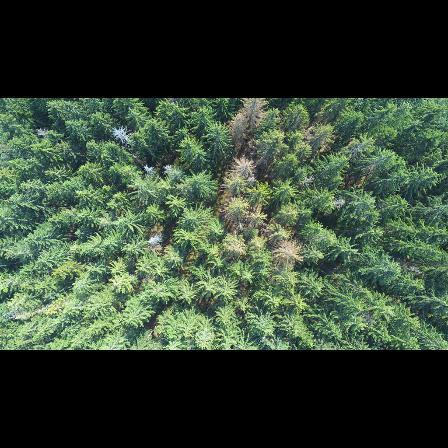Dead: (230, 99, 269, 143), (274, 241, 305, 269), (111, 121, 136, 151), (231, 157, 255, 177), (143, 229, 164, 249), (141, 163, 158, 178), (298, 174, 315, 187), (334, 195, 346, 211)
